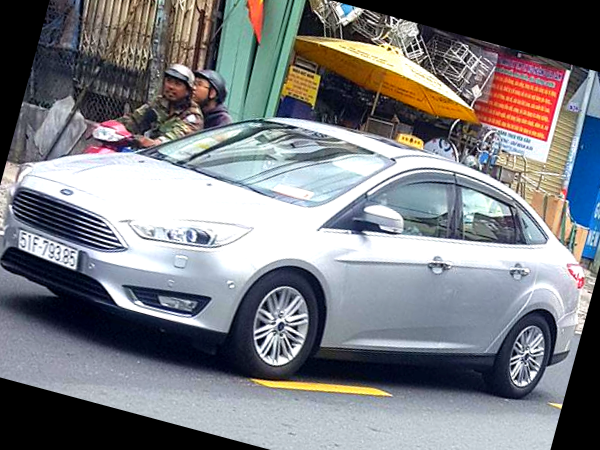lisence: (16, 228, 80, 272)
